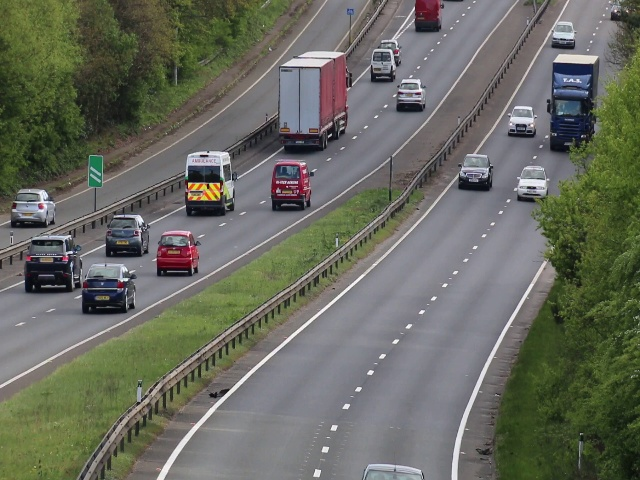car: (550, 63, 593, 156), (183, 146, 237, 213), (26, 234, 82, 290), (84, 260, 136, 313), (269, 160, 313, 213), (155, 227, 199, 277), (9, 187, 60, 227), (104, 215, 150, 258), (459, 150, 496, 193), (517, 165, 550, 201), (396, 76, 427, 114), (506, 101, 537, 139), (372, 48, 396, 84), (550, 19, 576, 52)
